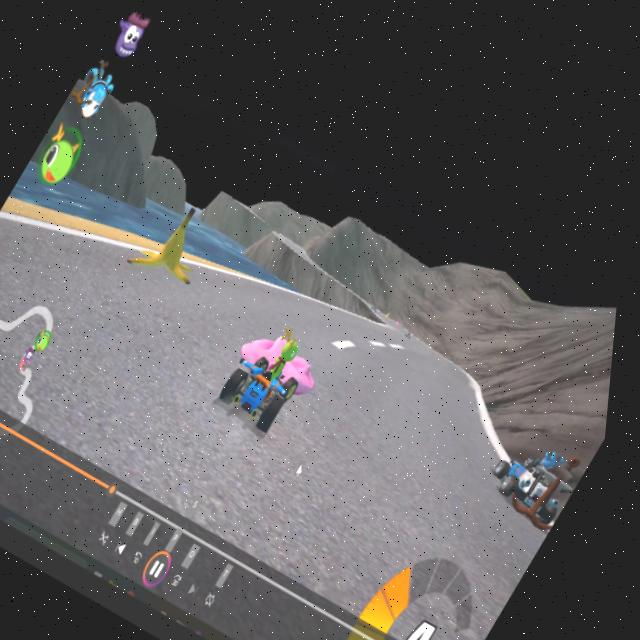enemy_kart: (484, 418, 597, 530)
obstacle: (135, 190, 230, 291)
player_kart: (216, 313, 327, 438)
track: (234, 302, 504, 609)
